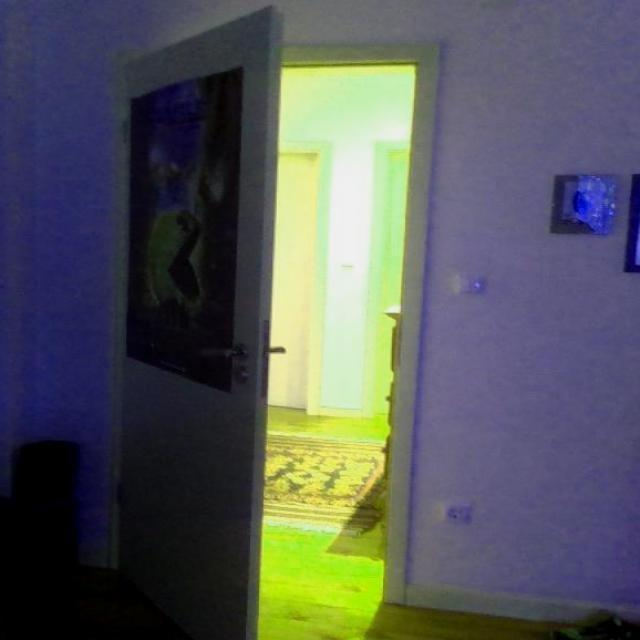door: (111, 4, 281, 638)
